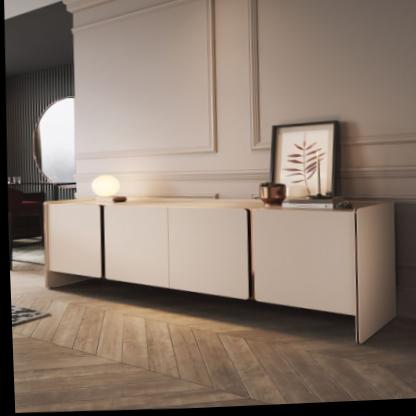Sideboard: (41, 199, 392, 343)
Wooden floor: (8, 253, 416, 412)
